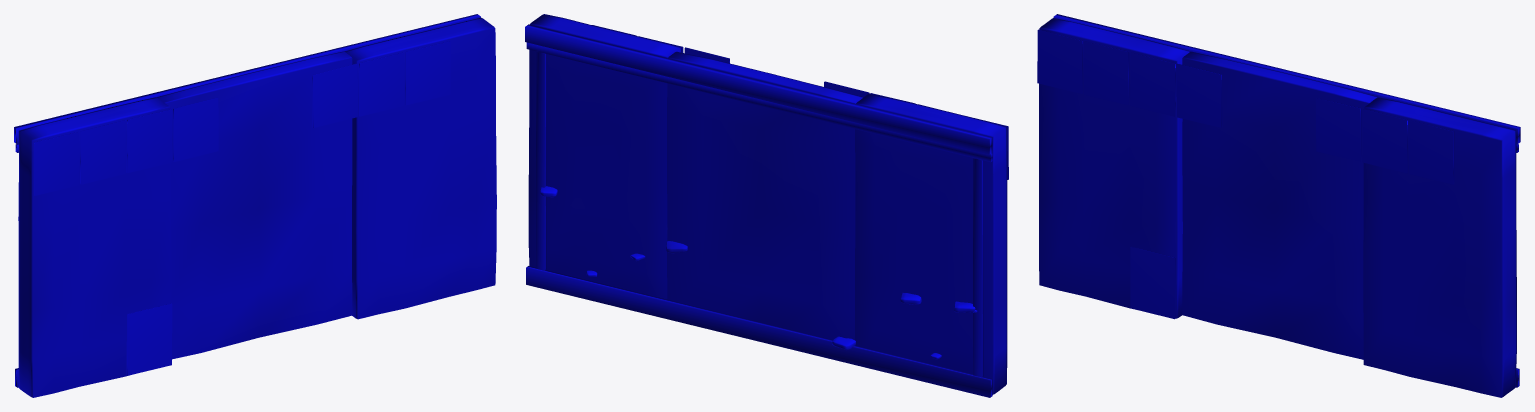
Rendered from tower_bay_solid.glb.
The picture shows the model from 3 angles, left to right: view 1: azimuth 30°, elevation 25°; view 2: azimuth 150°, elevation 25°; view 3: azimuth 330°, elevation 25°; orthographic projection.
Parts seen in each view (by area): view 1: tower_bay_solid; view 2: tower_bay_solid; view 3: tower_bay_solid.
Part boxes in pixels (bbox=[...]): tower_bay_solid: bbox=[14, 14, 496, 397]; tower_bay_solid: bbox=[525, 14, 1008, 397]; tower_bay_solid: bbox=[1037, 14, 1520, 397].
Size of what is drawn, in the model's own units: 6.01 by 3.21 by 0.5364.
